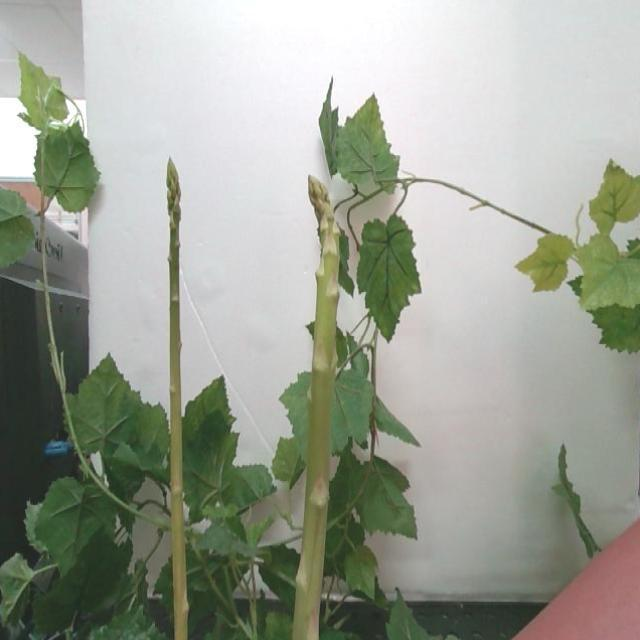aspargus: (292, 178, 341, 640), (164, 160, 187, 640)
